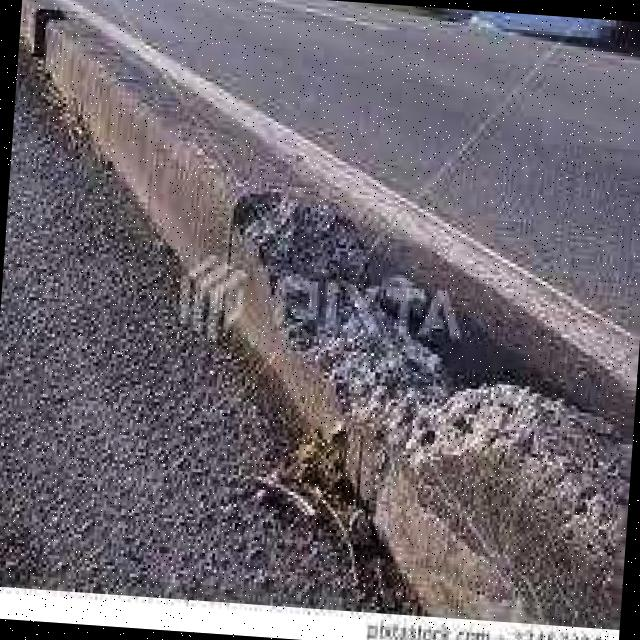curb: (310, 294, 640, 622), (126, 105, 349, 405), (11, 1, 166, 188)
